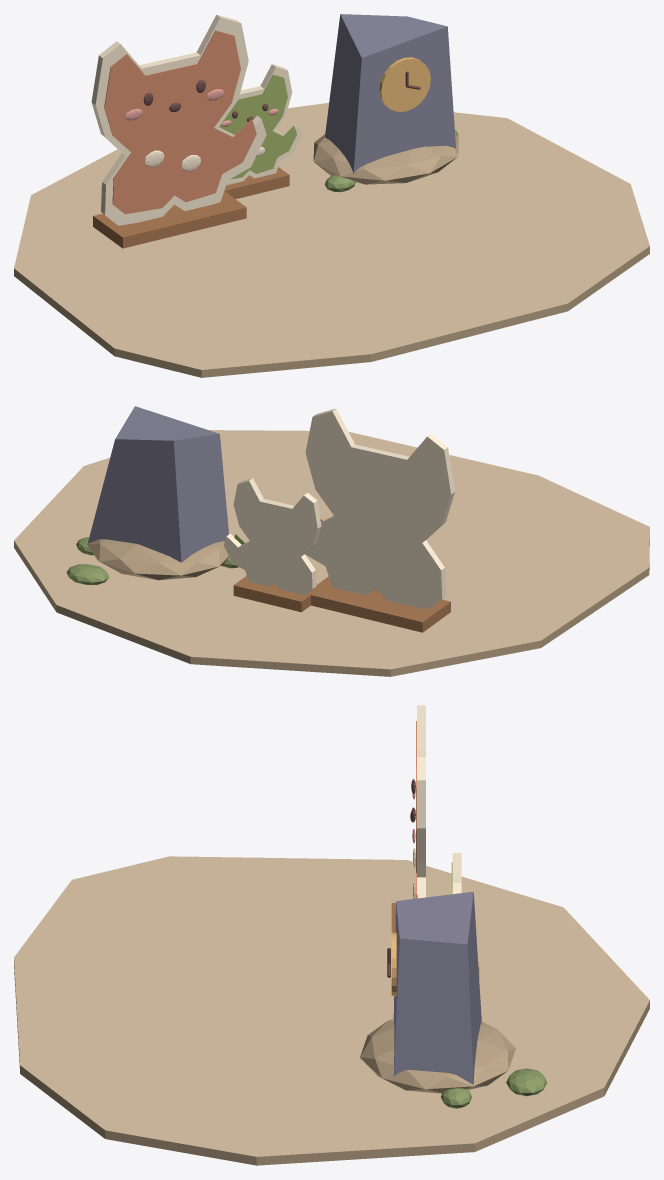
3 views of the same model, one above another, from view 1: azimuth 30°, elevation 25°; view 2: azimuth 150°, elevation 25°; view 3: azimuth 270°, elevation 25° (orthographic). The views are drawn at different scales.
Parts seen in each view (by area): view 1: Lookout paving, Pebblecat painted face, Time stone, Pebblecat cream outline, Time stone lower base, Pebblecat standing base, Sprout painted face, Time stone clock plaque, Sprout cream outline, Sprout standing base; view 2: Lookout paving, Pebblecat cream outline, Time stone, Sprout cream outline, Time stone lower base, Pebblecat standing base, Sprout standing base, Moss cushion 2; view 3: Lookout paving, Time stone, Time stone lower base, Pebblecat cream outline, Moss cushion 2.
Boxes of the visible parts, x1,y1,x2,y2 form: Lookout paving: [14, 102, 649, 377]; Pebblecat painted face: [104, 30, 256, 214]; Time stone: [325, 14, 455, 174]; Pebblecat cream outline: [91, 14, 266, 225]; Time stone lower base: [313, 134, 458, 184]; Pebblecat standing base: [93, 191, 246, 248]; Sprout painted face: [219, 74, 296, 179]; Time stone clock plaque: [379, 57, 430, 111]; Sprout cream outline: [226, 64, 302, 185]; Sprout standing base: [224, 167, 289, 199]; Lookout paving: [14, 430, 649, 676]; Pebblecat cream outline: [305, 408, 454, 609]; Time stone: [88, 406, 228, 562]; Sprout cream outline: [224, 478, 321, 595]; Time stone lower base: [87, 539, 229, 580]; Pebblecat standing base: [307, 576, 450, 632]; Sprout standing base: [233, 575, 311, 612]; Moss cushion 2: [66, 564, 108, 584]; Lookout paving: [14, 856, 649, 1165]; Time stone: [393, 891, 481, 1084]; Time stone lower base: [360, 1019, 515, 1093]; Pebblecat cream outline: [417, 705, 425, 898]; Moss cushion 2: [506, 1068, 547, 1096].
Bounding box in the file's own units: 5.77 × 2.02 × 5.16.
